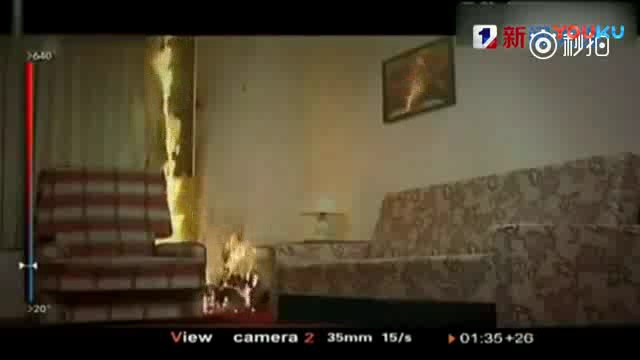fire: (154, 44, 201, 245), (214, 232, 265, 310)
